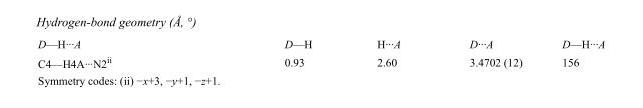table: (37, 37, 604, 69)
table column: (37, 37, 197, 69), (197, 37, 343, 69), (434, 37, 541, 69), (343, 37, 434, 69), (541, 37, 604, 69)
table row: (37, 51, 604, 69), (37, 37, 604, 51)
